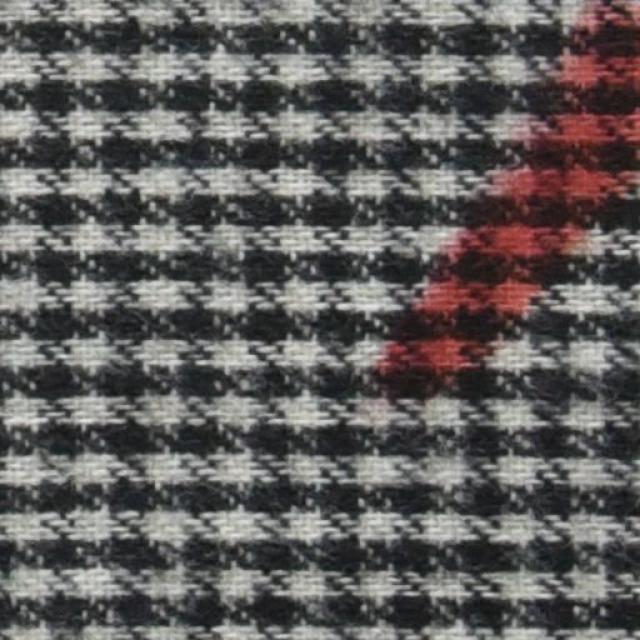Stain: (382, 0, 639, 392)
